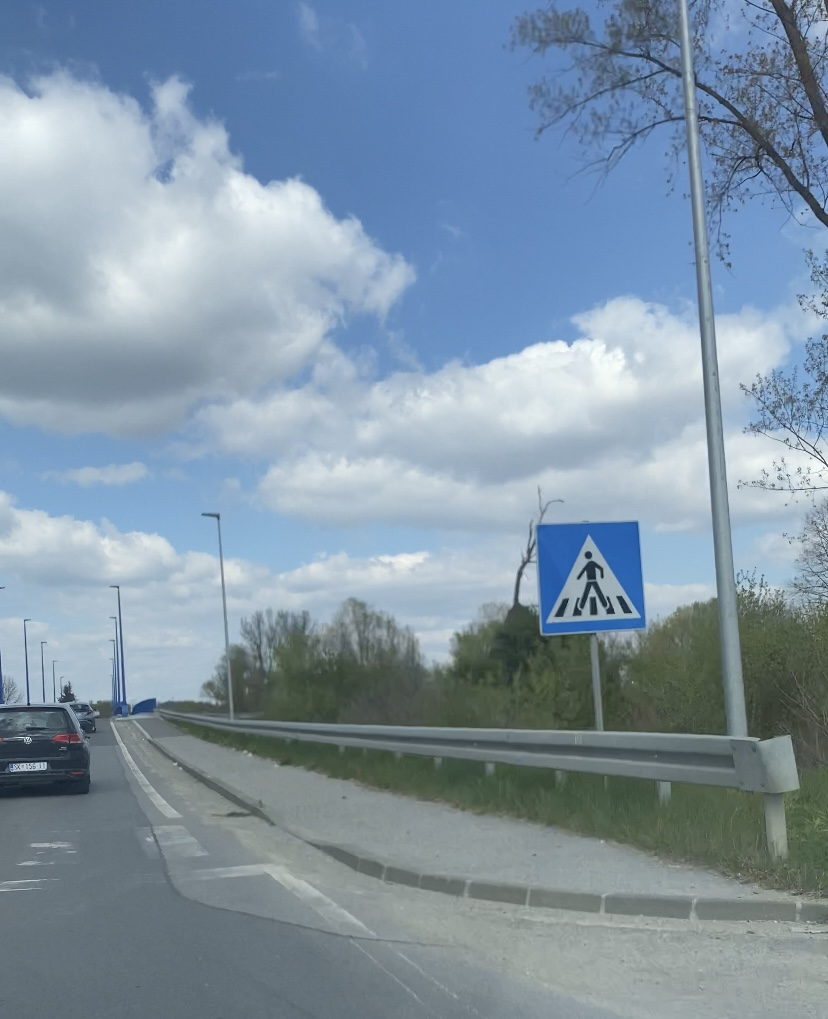Pješački prijelaz: (536, 520, 647, 636)
